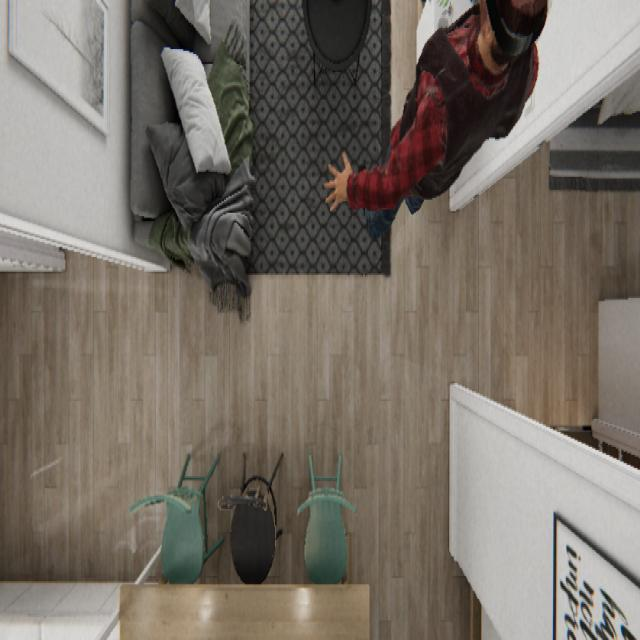Human: (322, 0, 550, 239)
